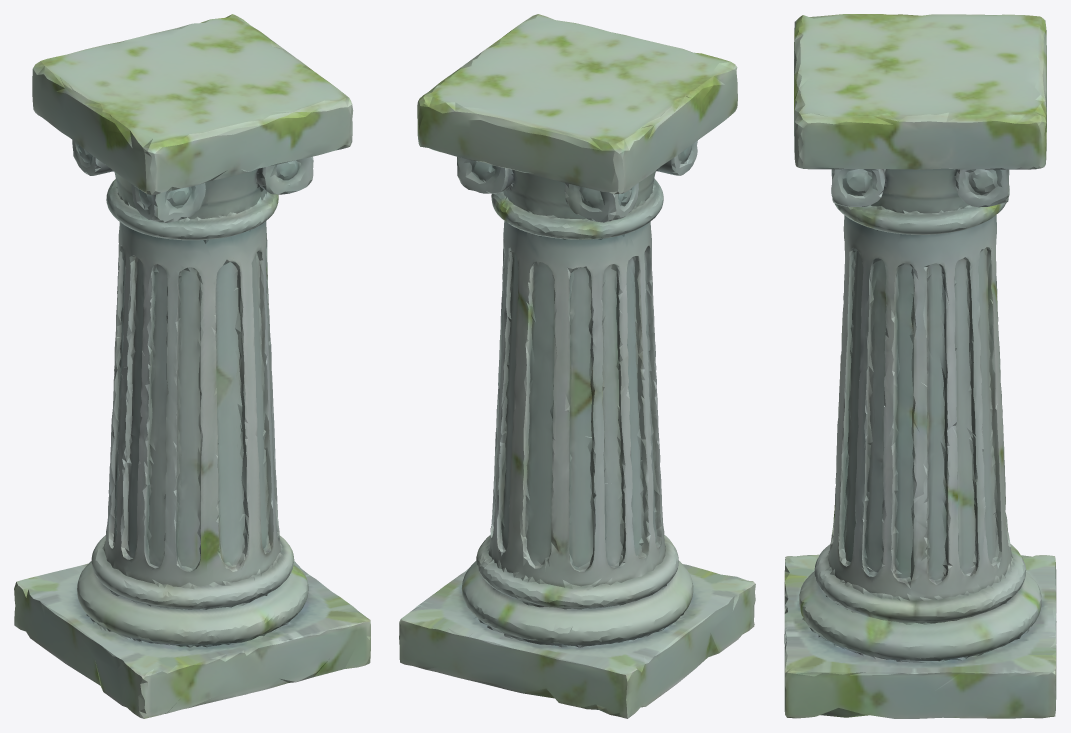
The model's file is rodin_Lab_Column_raw.glb.
3 renders of one model, left to right at view 1: azimuth 30°, elevation 25°; view 2: azimuth 150°, elevation 25°; view 3: azimuth 270°, elevation 25°, orthographic. The views are drawn at different scales.
Parts seen in each view (by area): view 1: model; view 2: model; view 3: model.
Boxes of the visible parts, x1,y1,x2,y2 form: model: (14,14,370,718); model: (399,14,755,718); model: (784,14,1056,718).
Size of the model in its own units: 0.7502 by 1.76 by 0.7275.
Materials: 1 (1 with a texture image).
